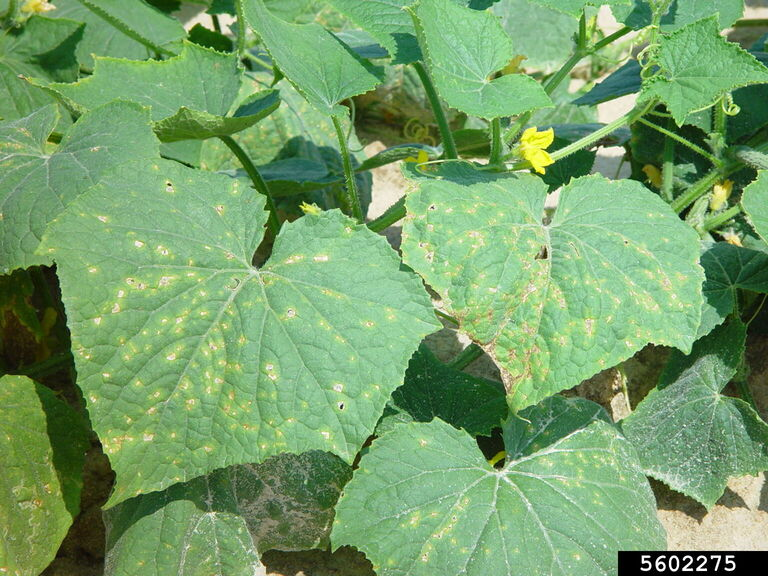Cucumber_AngularLeafSpot: (39, 164, 423, 493), (399, 161, 707, 385)
